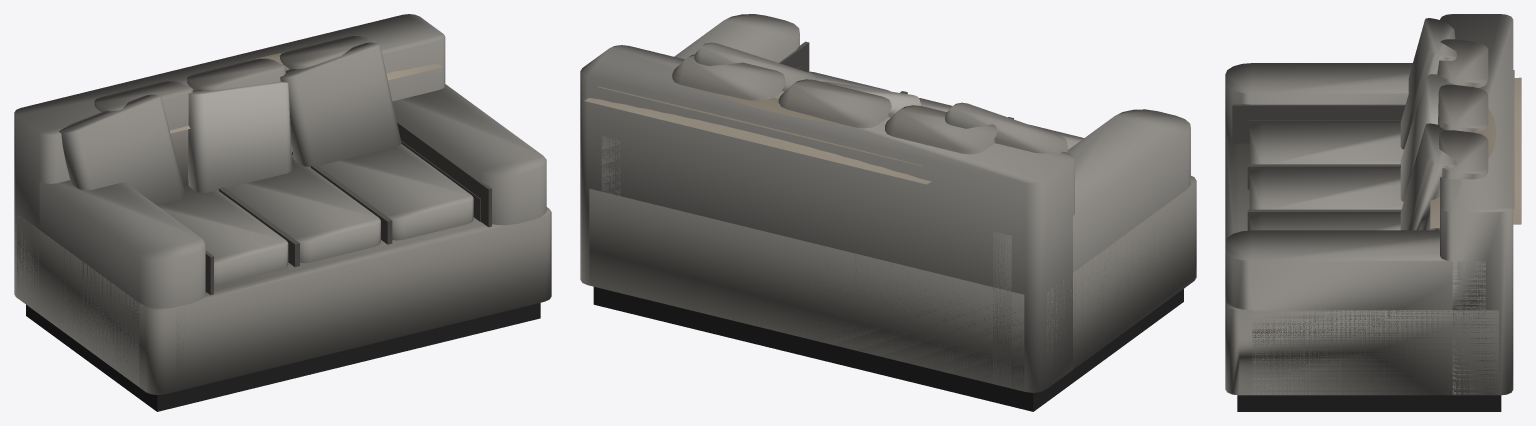
Rendered from sofa_e3.glb.
The picture shows the model from 3 angles, left to right: view 1: azimuth 30°, elevation 25°; view 2: azimuth 150°, elevation 25°; view 3: azimuth 270°, elevation 25°; orthographic projection. The views are drawn at different scales.
Parts seen in each view (by area): view 1: root; view 2: root; view 3: root.
Boxes of the visible parts, <box> form: root: <box>14,14,551,411</box>; root: <box>580,14,1196,411</box>; root: <box>1225,14,1521,411</box>.
Bounding box in the file's own units: 1.8 × 0.934 × 1.14.
